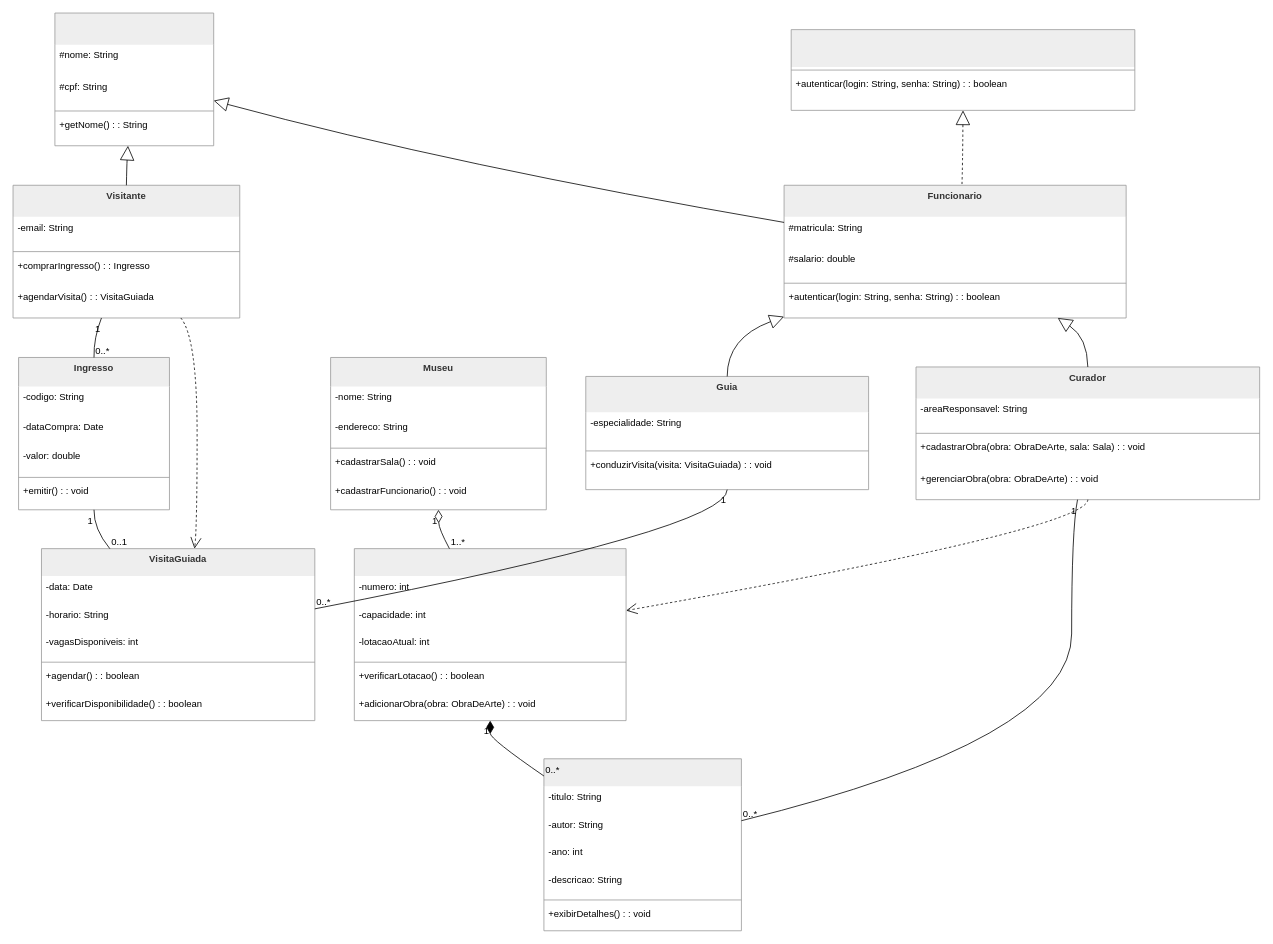
This 1273x944 diagram has some shape labels left out. Here are the shapes that lost their labels. From the top down, the box of each, then its label:
(54, 12, 214, 146): Pessoa
(790, 29, 1135, 110): Autenticavel
(354, 548, 626, 721): Sala
(543, 758, 741, 931): ObraDeArte
